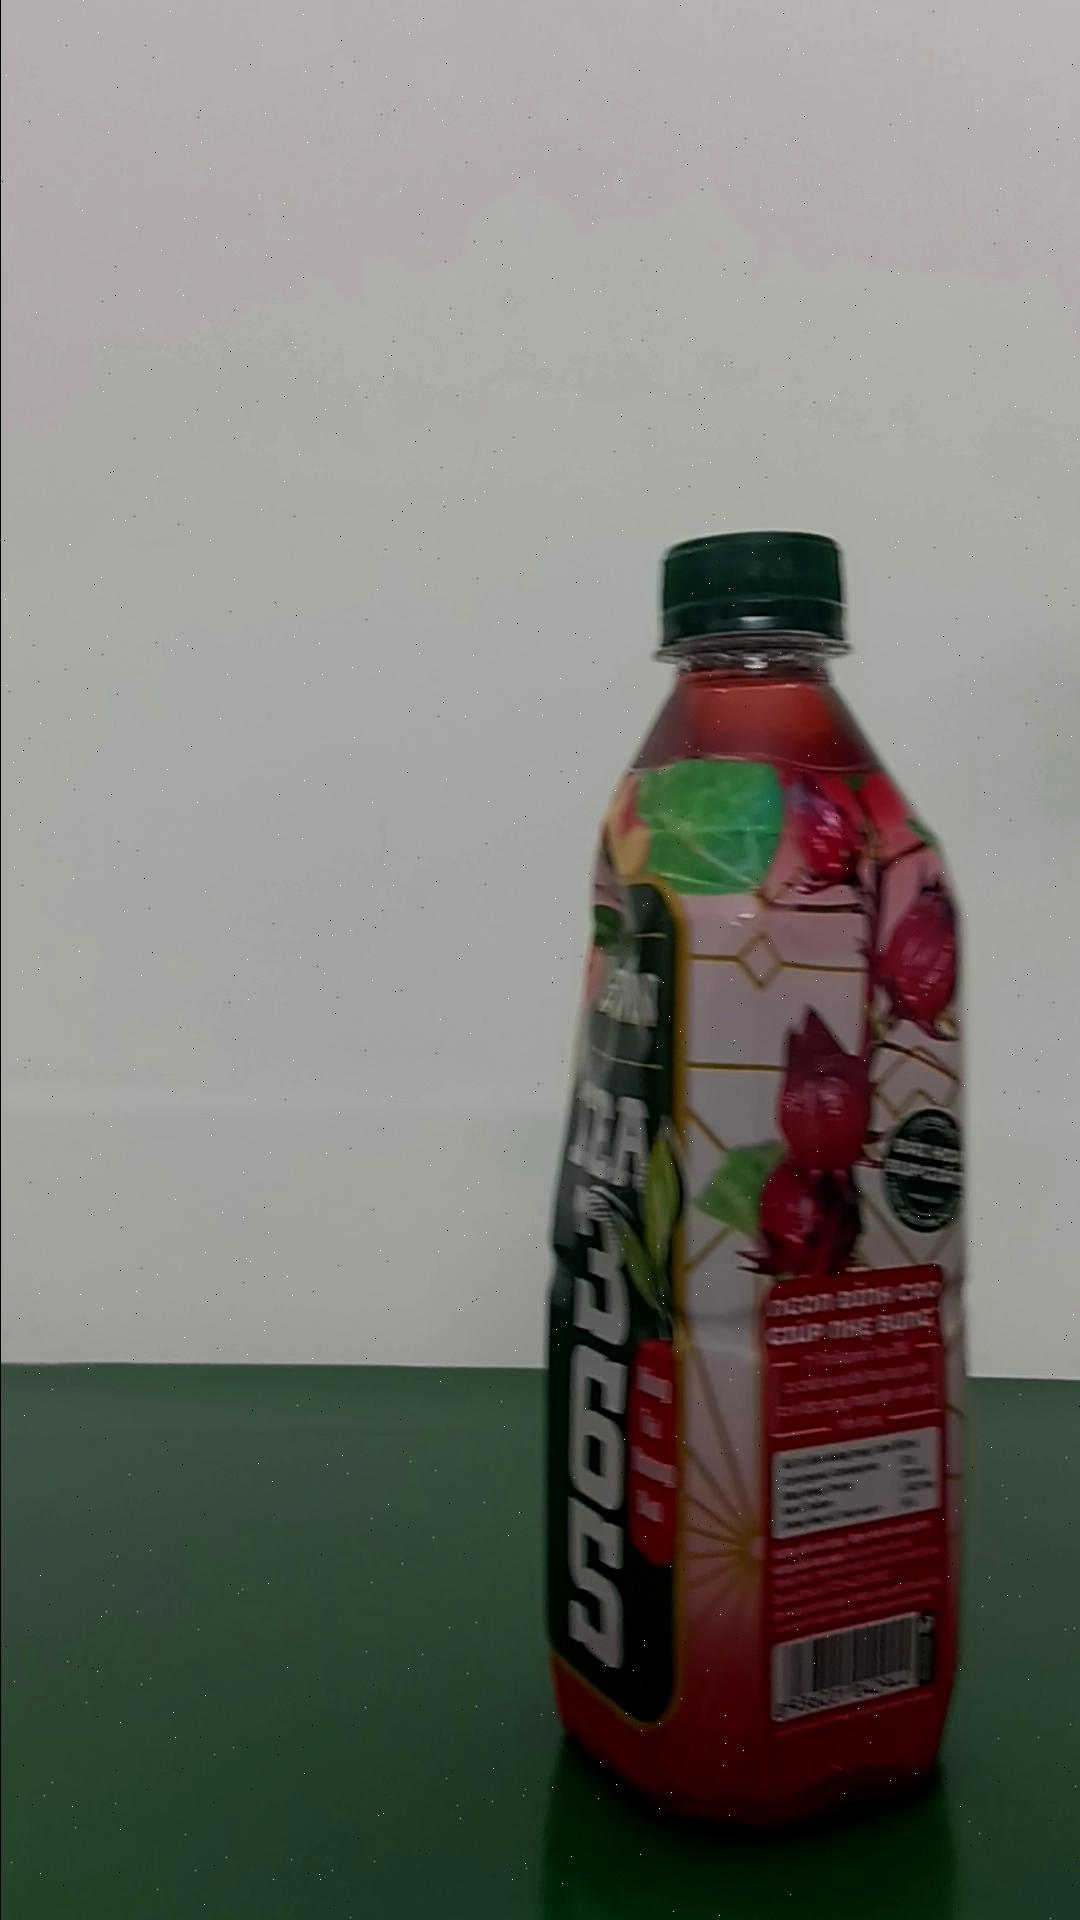loi meo sp: (541, 526, 969, 1830)
